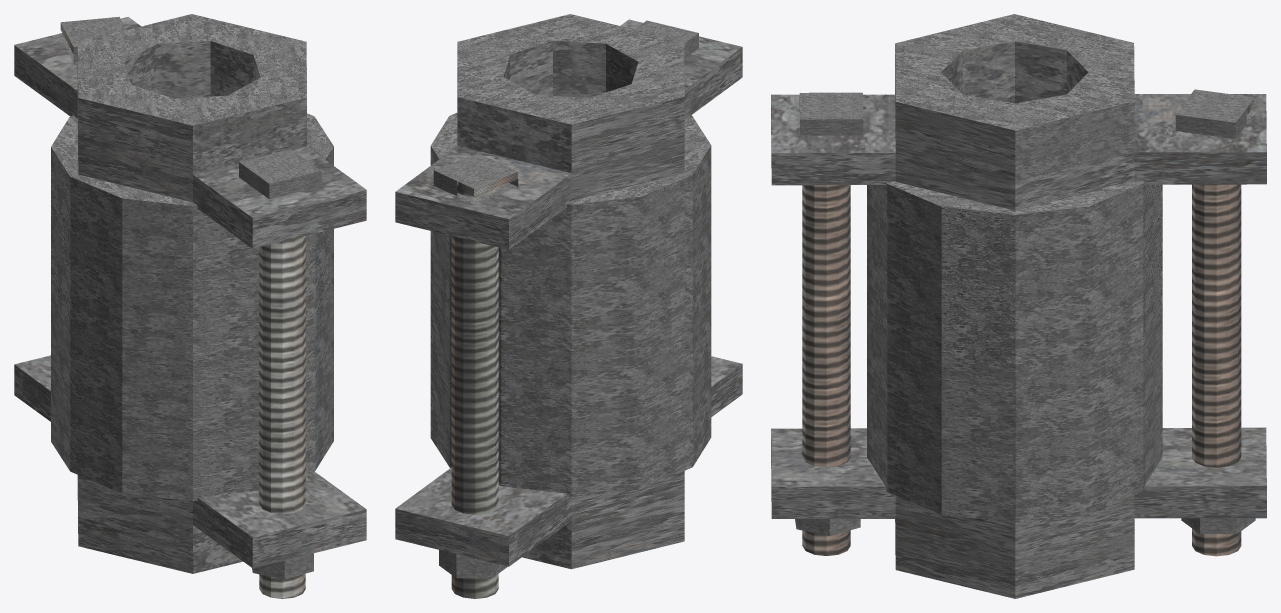
The model's file is tikitown_checkvalve.fbx.
The picture shows the model from 3 angles, left to right: view 1: azimuth 30°, elevation 25°; view 2: azimuth 150°, elevation 25°; view 3: azimuth 270°, elevation 25°; orthographic projection. The views are drawn at different scales.
Visible parts, largest first — view 1: Cylinder; view 2: Cylinder; view 3: Cylinder.
Part boxes in pixels (bbox=[...]): Cylinder: bbox=[14, 14, 366, 598]; Cylinder: bbox=[395, 14, 742, 598]; Cylinder: bbox=[771, 14, 1266, 598].
Bounding box in the file's own units: 0.1438 × 0.2542 × 0.2412.
